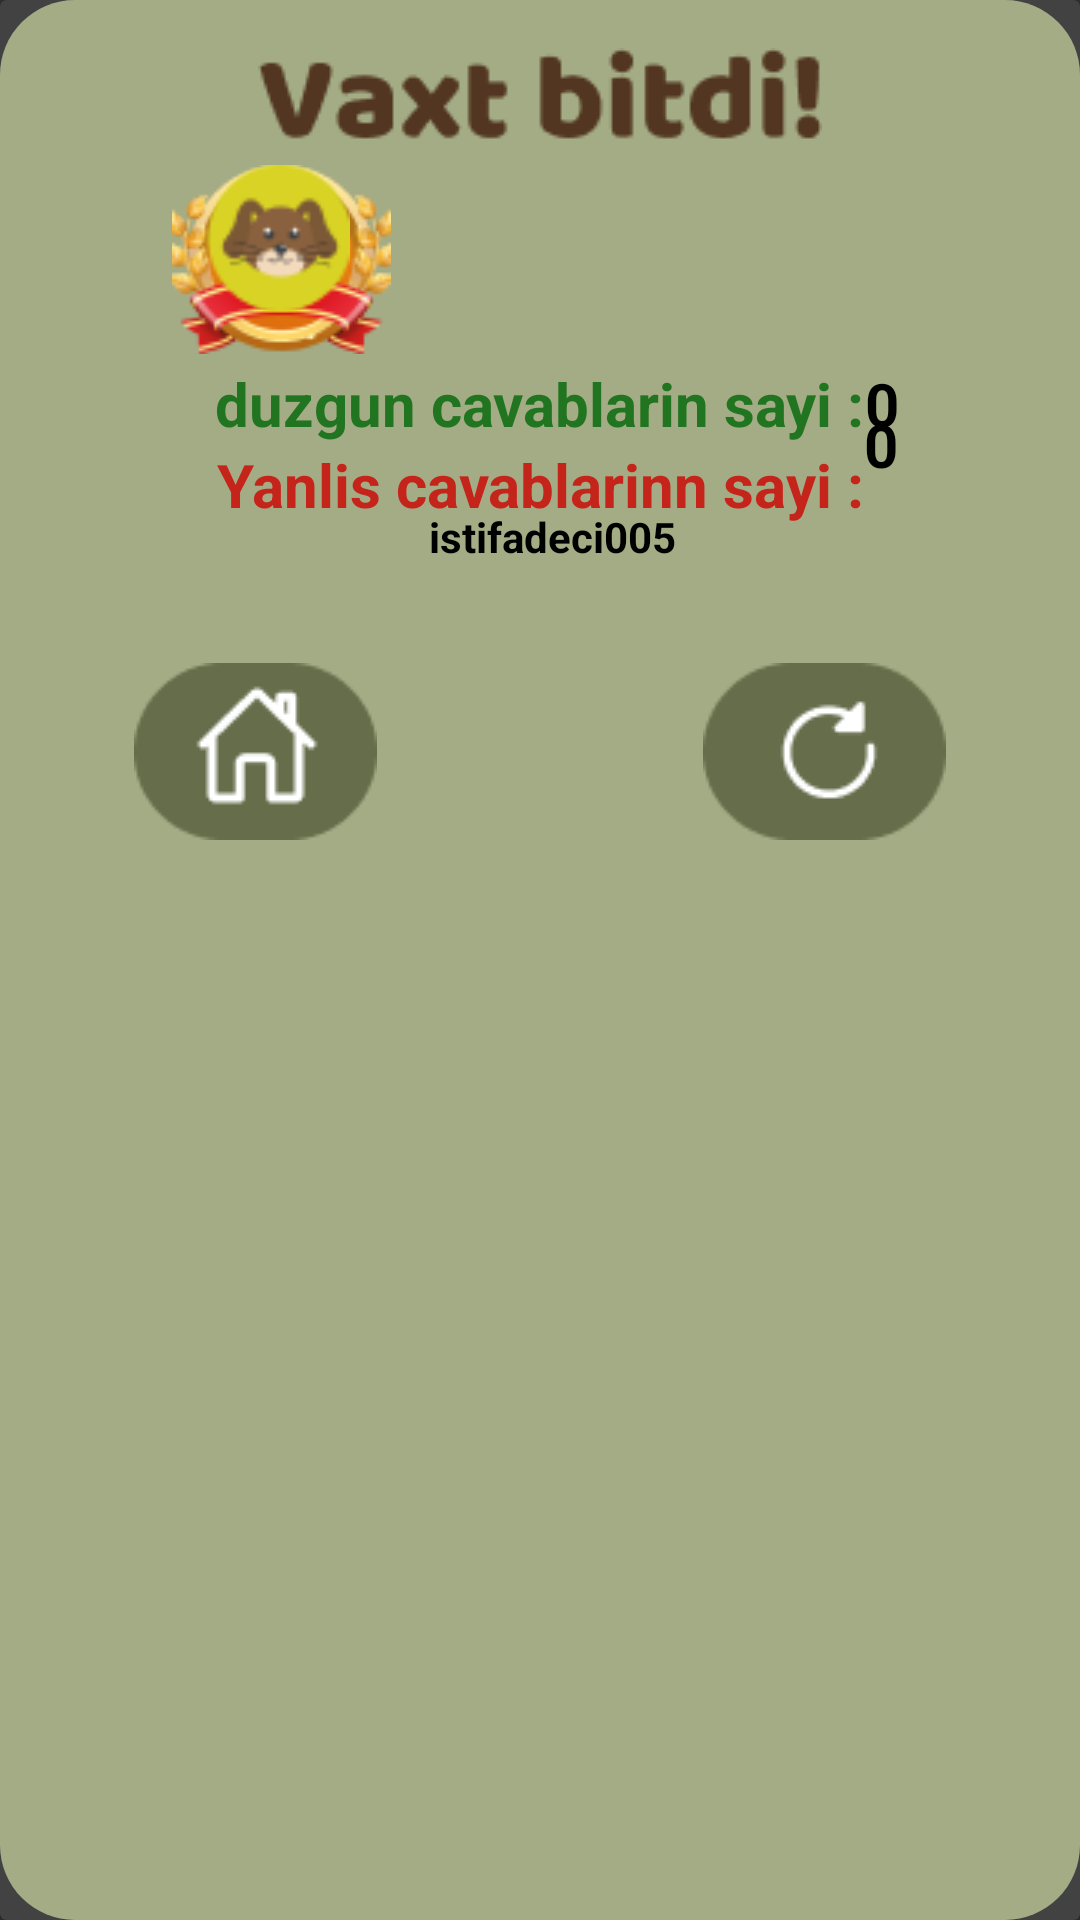

Icons on this 1080 x 1920 Android screen, each with its box as (x1, y1, x2, y2):
home: (134, 663, 377, 840)
restart: (703, 663, 946, 840)
